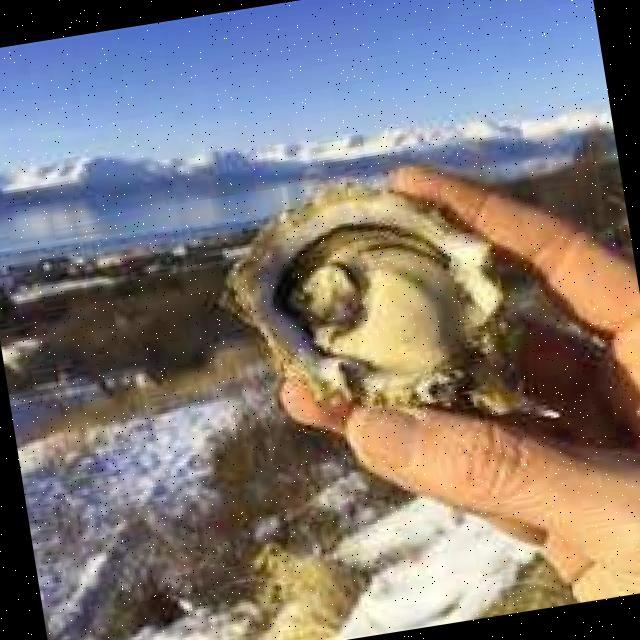Oyster-Open: (224, 190, 506, 422)
